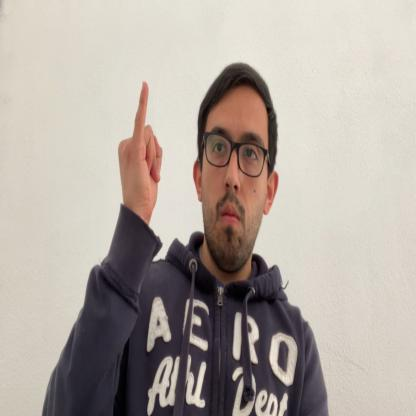I: (118, 78, 162, 221)
